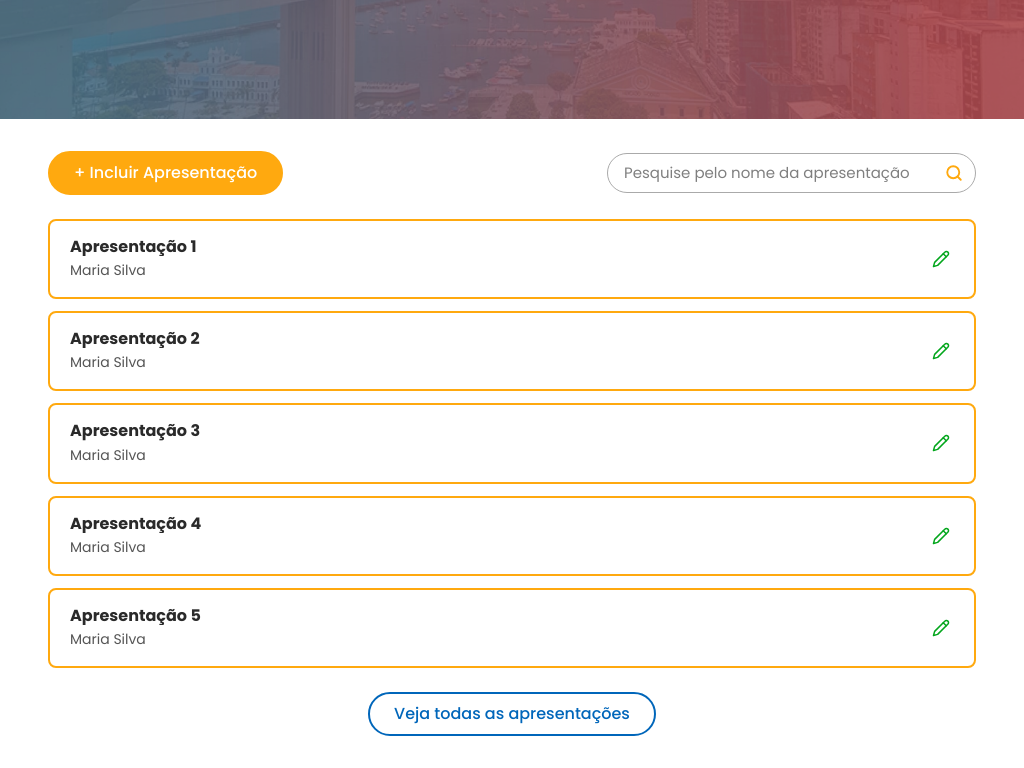
MinhasApresentacoesPage › shows 'show all' button when more than 5 submissions
The width and height of the screenshot is (1024, 768).
(page scrolled)
expect the heading "Apresentação 1" is shown: met, box [70,235,196,258]
expect the heading "Apresentação 5" is shown: met, box [70,604,201,627]
What coordinates should you click on to do the following:
click the button "Veja todas as apresentações"
I would click on:
 (512, 714)
Its box is [368,692,656,736].
(page scrolled)
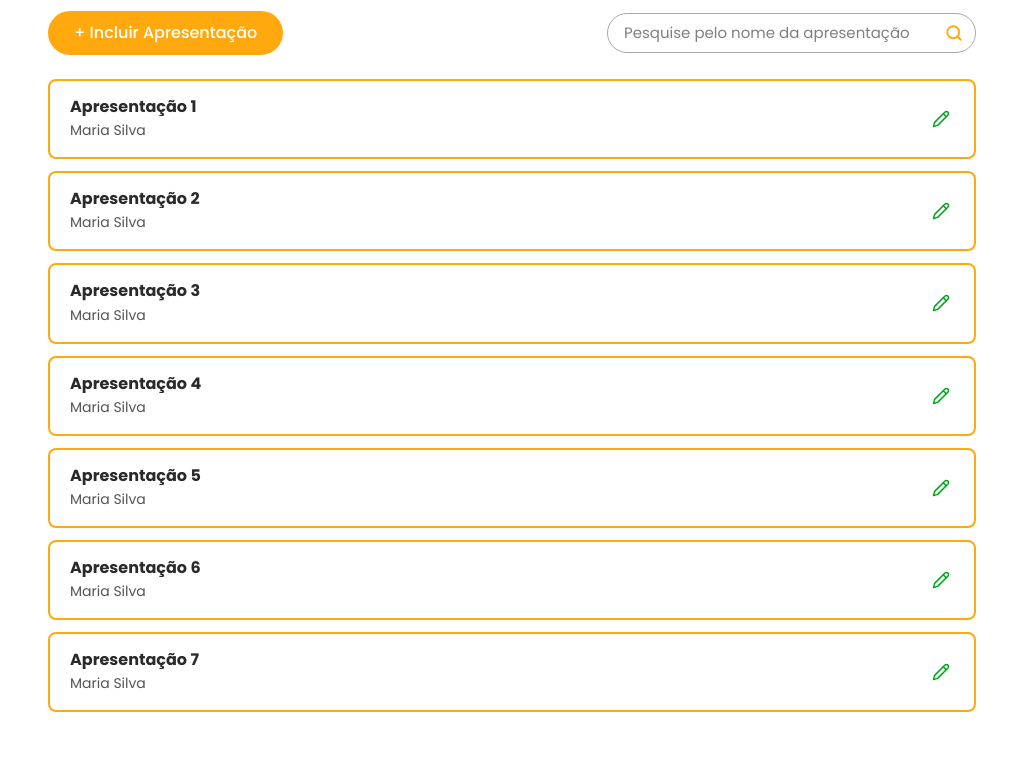
expect the heading "Apresentação 6" is shown: met, box [70,556,201,579]
expect the heading "Apresentação 7" is shown: met, box [70,648,199,671]
